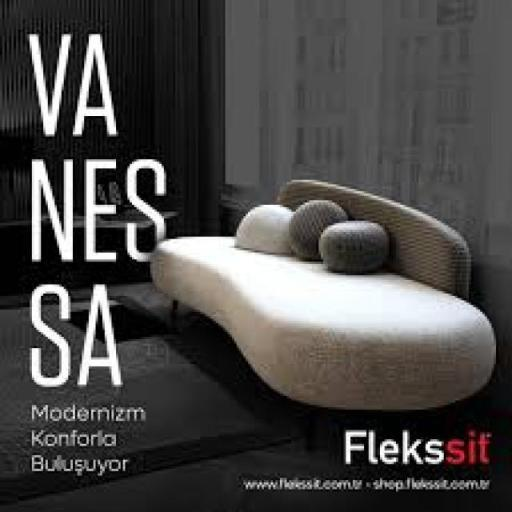sofa: (148, 147, 512, 422)
